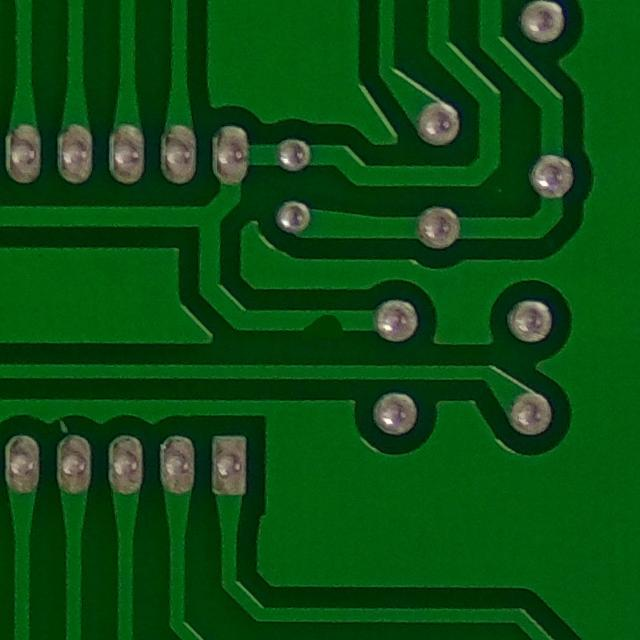mouse_bite: (286, 296, 355, 345)
